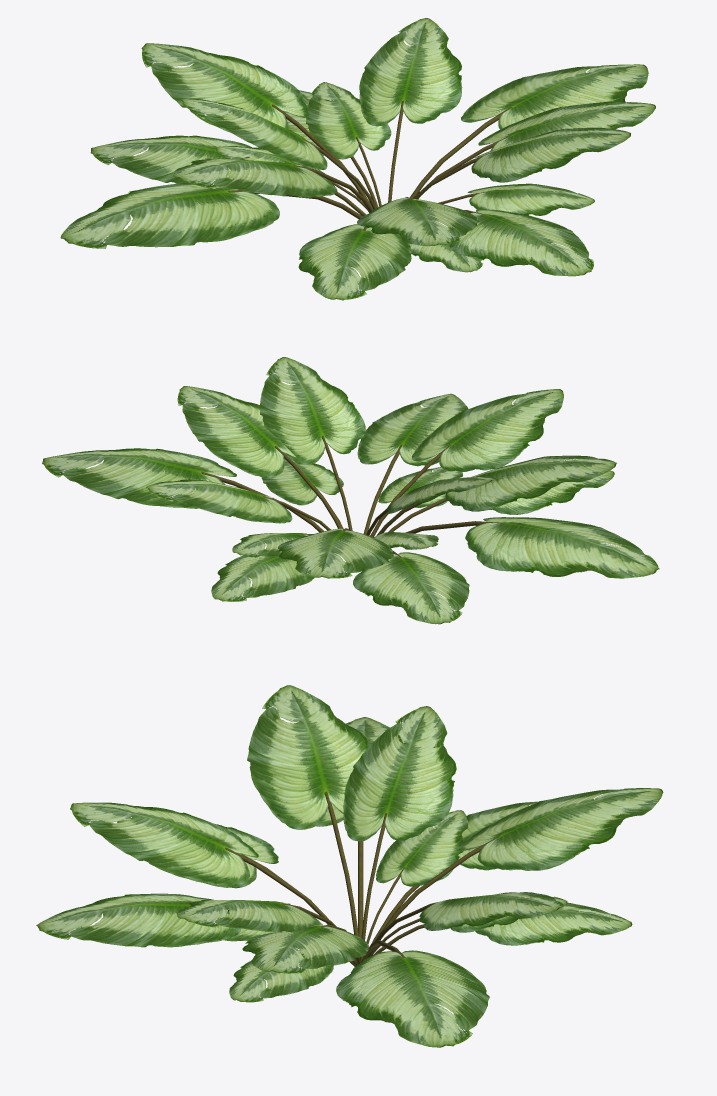
Rendered from Amazonie_Fougere_7.fbx.
3 views of the same model, one above another, from view 1: azimuth 30°, elevation 25°; view 2: azimuth 150°, elevation 25°; view 3: azimuth 270°, elevation 25° (orthographic). The views are drawn at different scales.
Parts seen in each view (by area): view 1: Plane.001, Plane.009, Plane.013, Plane.006, Plane.004, Plane.003, Plane.010, Plane.007, Plane.000, Plane.014, Plane.015, Plane.012 (+5 smaller); view 2: Plane.001, Plane.010, Plane.016, Plane.006, Plane.015, Plane.000, Plane.007, Plane.004, Plane.013, Plane.009, Plane.002, Plane.005 (+5 smaller); view 3: Plane.007, Plane.012, Plane.006, Plane.013, Plane.016, Plane.004, Plane.015, Plane.008, Plane.002, Plane.009, Plane.010, Plane.005 (+4 smaller).
Boxes of the visible parts, box(x1,y1,x2,y2) form: Plane.001: box(60, 183, 362, 248); Plane.009: box(359, 18, 462, 202); Plane.013: box(141, 43, 373, 209); Plane.006: box(409, 64, 648, 198); Plane.004: box(449, 209, 593, 276); Plane.003: box(298, 224, 411, 300); Plane.010: box(413, 127, 630, 198); Plane.007: box(173, 158, 372, 212); Plane.000: box(90, 135, 366, 216); Plane.014: box(306, 82, 391, 206); Plane.015: box(417, 102, 655, 199); Plane.012: box(180, 98, 376, 209); Plane.001: box(405, 517, 659, 578); Plane.010: box(260, 357, 365, 530); Plane.016: box(370, 389, 563, 537); Plane.006: box(42, 448, 323, 532); Plane.015: box(177, 386, 341, 528); Plane.000: box(353, 551, 469, 624); Plane.007: box(377, 455, 616, 535); Plane.004: box(357, 393, 468, 534); Plane.013: box(278, 528, 393, 578); Plane.009: box(146, 479, 330, 530); Plane.002: box(211, 555, 315, 601); Plane.005: box(261, 459, 343, 529); Plane.007: box(247, 685, 368, 957); Plane.012: box(343, 706, 456, 962); Plane.006: box(336, 940, 489, 1047); Plane.013: box(375, 788, 663, 940); Plane.016: box(70, 802, 328, 924); Plane.004: box(36, 893, 355, 966); Plane.015: box(242, 924, 368, 973); Plane.008: box(366, 810, 468, 944); Plane.002: box(373, 902, 632, 954); Plane.009: box(369, 892, 563, 956); Plane.010: box(177, 900, 355, 960); Plane.005: box(229, 950, 357, 1002).
Bounding box in the file's own units: 942 × 223 × 802.
